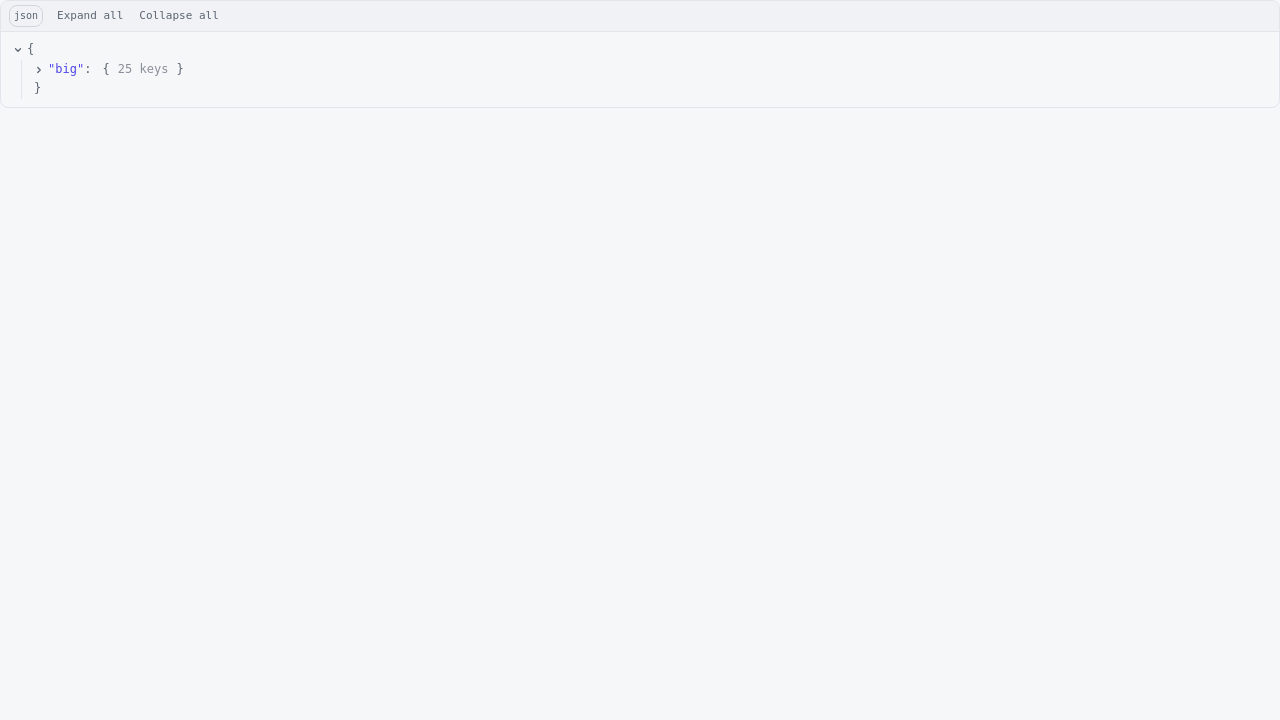
Test case: JsonTree › default-collapses a node with more than 20 children
Expected: the text "25 keys" is shown, [114, 60, 172, 79]
Expected: the text "val-0" is not shown
// Expanding reveals the children.
Click the button "\"big\": { 25 keys }".
click(109, 69)  # box [34, 62, 184, 76]
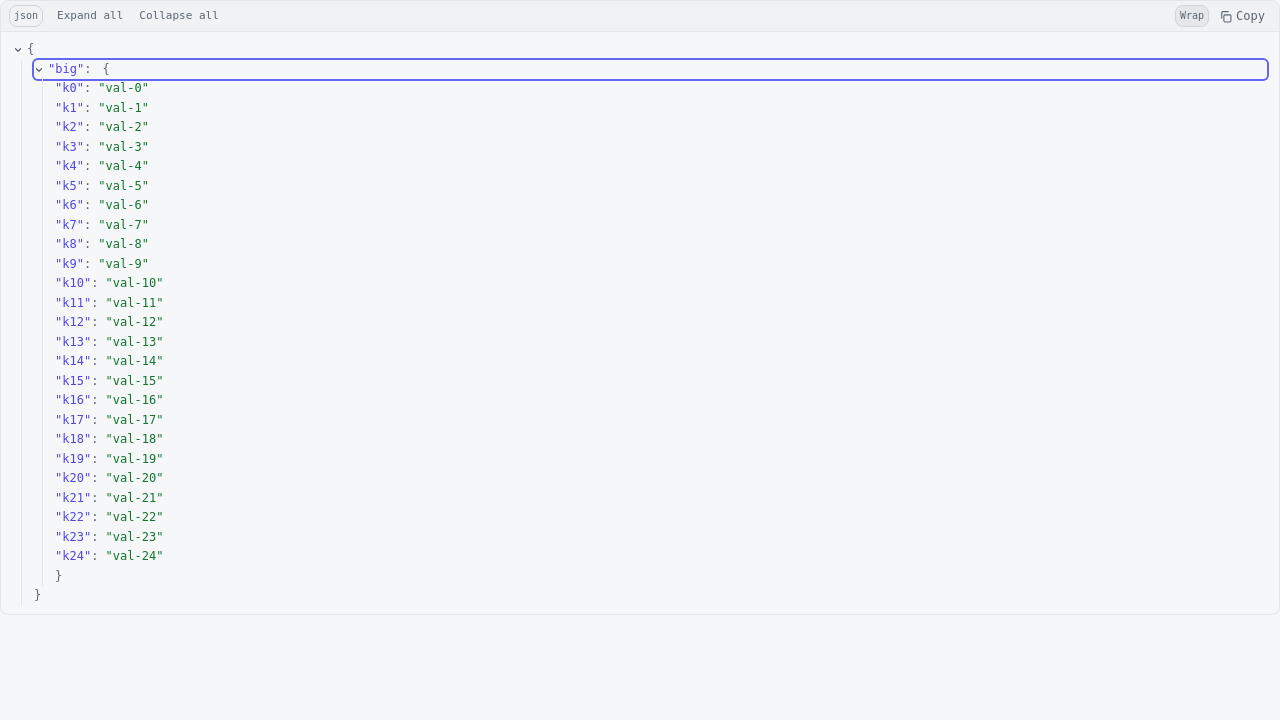
Result: the text "\"val-0\"" is shown at [98, 81, 149, 95]
